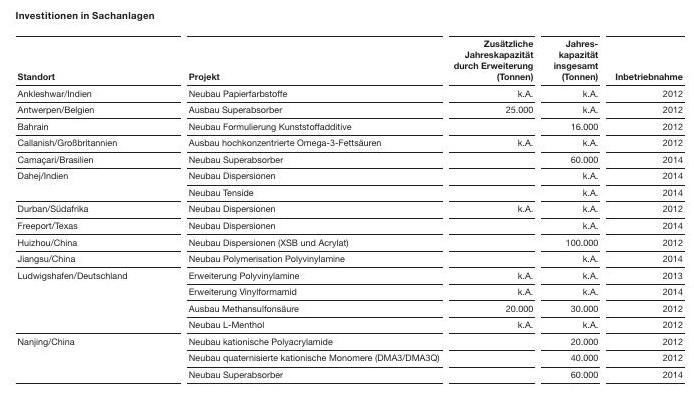table: (0, 0, 694, 395)
